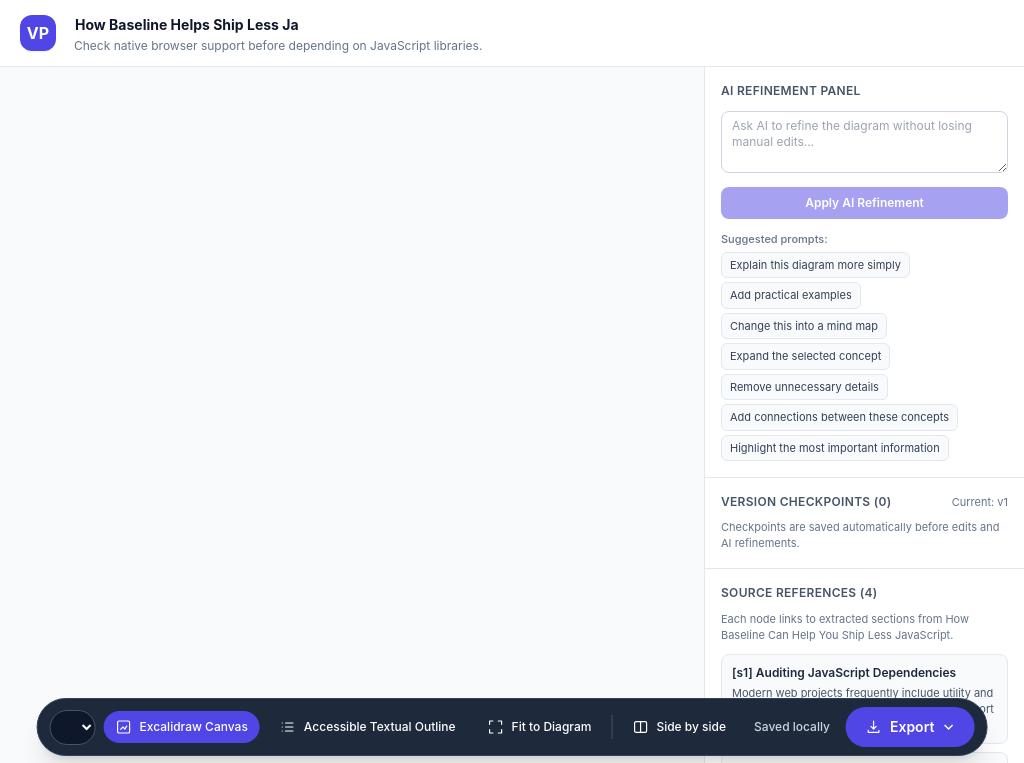
Test: Volume 01 — Extension Foundation › renders the Full-Page Editor route with canvas and accessible textual outline
The width and height of the screenshot is (1024, 763).
Click the button "Export" at (910, 727), box x1=846 y1=707 x2=974 y2=747
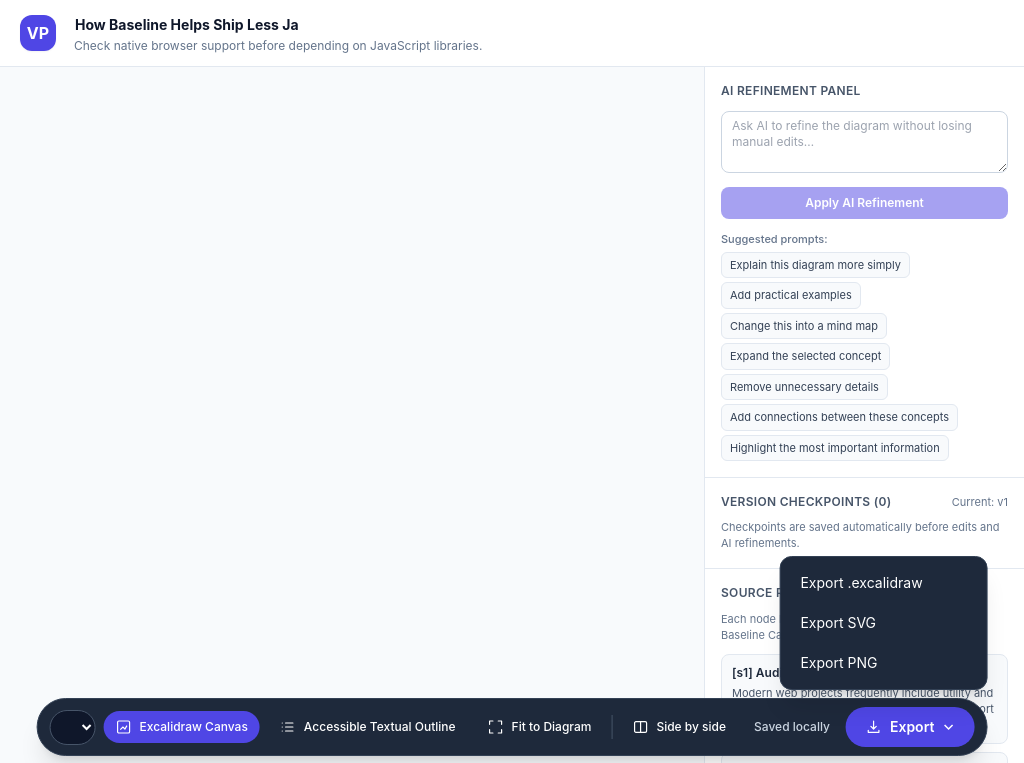
Expected: the button "Export .excalidraw" is shown, x1=788 y1=565 x2=978 y2=601
Click the button "Accessible Textual Outline" at (368, 727), box x1=268 y1=711 x2=468 y2=743
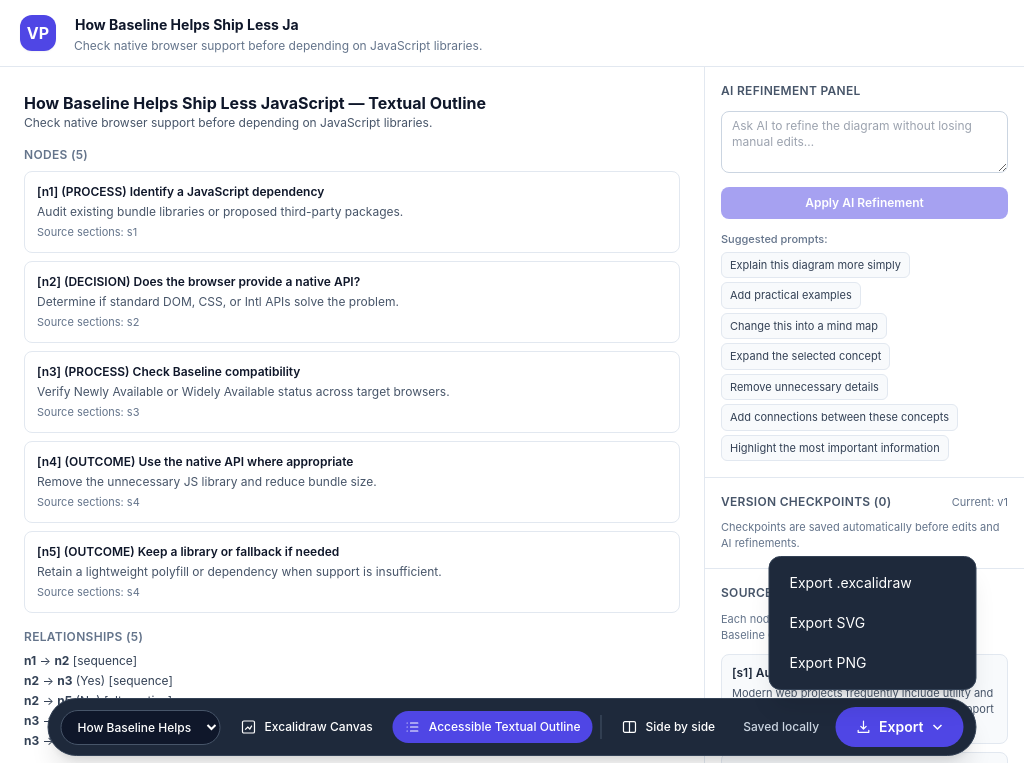
Expected: the heading "How Baseline Helps Ship Less JavaScript — Textual Outline" is shown, x1=24 y1=93 x2=486 y2=113
